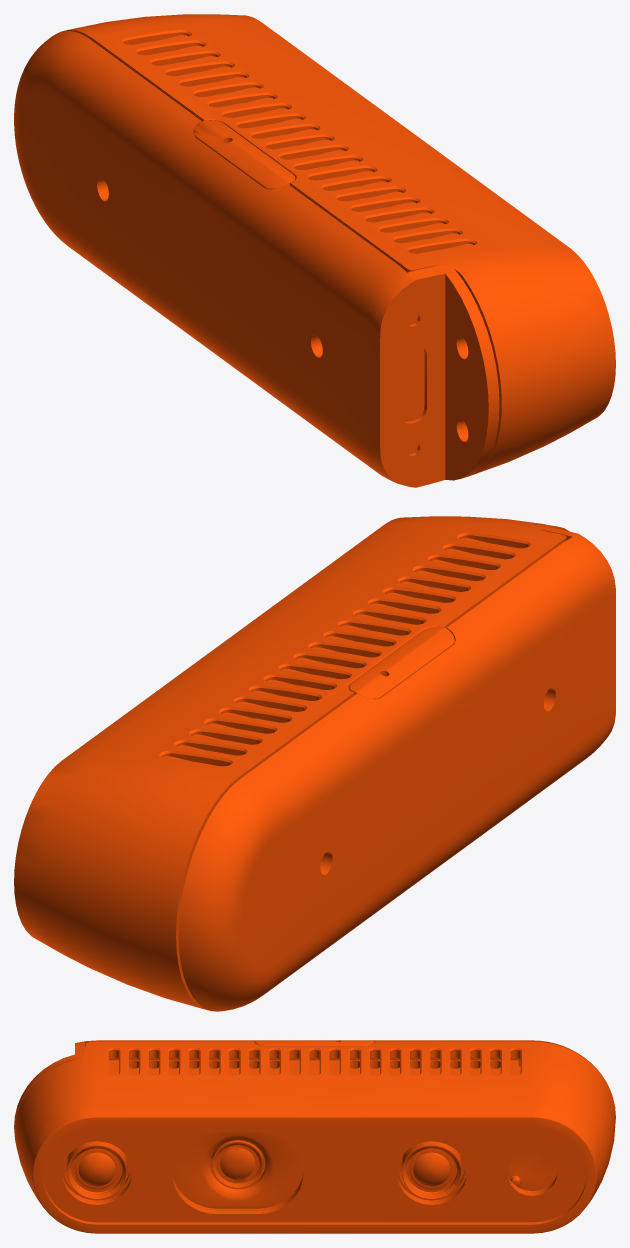
The model's file is RealSense_Camera_1.dae.
3 views of the same model, one above another, from view 1: azimuth 30°, elevation 25°; view 2: azimuth 150°, elevation 25°; view 3: azimuth 270°, elevation 25° (orthographic). The views are drawn at different scales.
Parts seen in each view (by area): view 1: RealSense_Camera_1; view 2: RealSense_Camera_1; view 3: RealSense_Camera_1.
Boxes of the visible parts, x1,y1,x2,y2 form: RealSense_Camera_1: (14, 14, 615, 487); RealSense_Camera_1: (14, 516, 615, 1011); RealSense_Camera_1: (14, 1040, 615, 1233).
Size of the model in its own units: 25.05 by 89.91 by 25.
